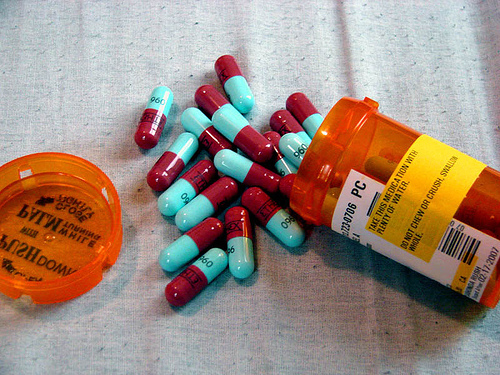pill bottle: (291, 95, 500, 314)
